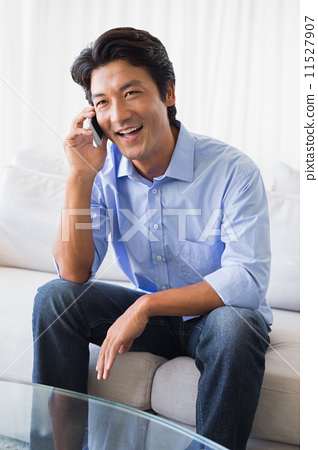phone: (77, 93, 111, 162)
talk: (62, 74, 166, 176)
